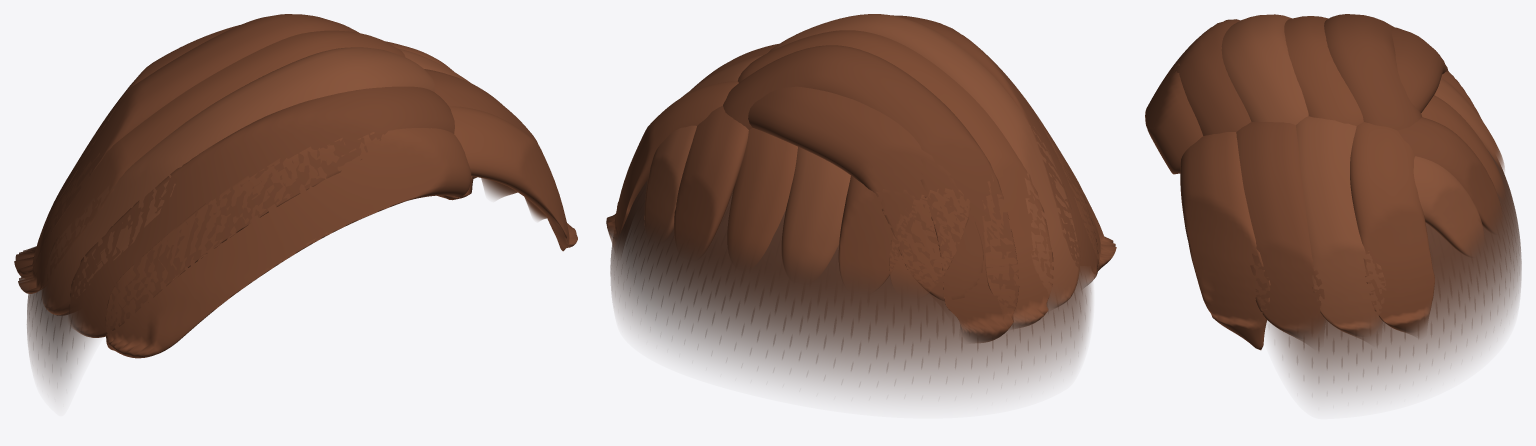
File: Masculine-taper-beanie258-hair.glb
3 renders of one model, left to right at view 1: azimuth 30°, elevation 25°; view 2: azimuth 150°, elevation 25°; view 3: azimuth 270°, elevation 25°, orthographic. The views are drawn at different scales.
Parts seen in each view (by area): view 1: 226 hair / Hair258 / sculpted side sweep 1, 226 hair / Hair258 / sculpted side sweep 0, 226 hair / Hair258 / sculpted side sweep 2, 226 hair / Hair258 / smooth side fade; view 2: 226 hair / Hair258 / sculpted side sweep 0, 226 hair / Hair258 / smooth side fade, 226 hair / Hair258 / sculpted side sweep 1, 226 hair / Hair258 / sculpted side sweep 2, 226 hair / Hair258 / directional fade marks; view 3: 226 hair / Hair258 / sculpted side sweep 1, 226 hair / Hair258 / sculpted side sweep 0, 226 hair / Hair258 / sculpted side sweep 2, 226 hair / Hair258 / smooth side fade, 226 hair / Hair258 / directional fade marks.
Boxes of the visible parts, <box> form: 226 hair / Hair258 / sculpted side sweep 1: <box>18,30,577,358</box>; 226 hair / Hair258 / sculpted side sweep 0: <box>14,14,546,337</box>; 226 hair / Hair258 / sculpted side sweep 2: <box>41,47,517,315</box>; 226 hair / Hair258 / smooth side fade: <box>27,287,94,393</box>; 226 hair / Hair258 / sculpted side sweep 0: <box>674,15,1098,342</box>; 226 hair / Hair258 / smooth side fade: <box>610,180,1091,398</box>; 226 hair / Hair258 / sculpted side sweep 1: <box>606,30,1116,328</box>; 226 hair / Hair258 / sculpted side sweep 2: <box>617,14,1080,307</box>; 226 hair / Hair258 / directional fade marks: <box>621,181,1086,371</box>; 226 hair / Hair258 / sculpted side sweep 1: <box>1145,16,1505,350</box>; 226 hair / Hair258 / sculpted side sweep 0: <box>1171,14,1502,340</box>; 226 hair / Hair258 / sculpted side sweep 2: <box>1221,14,1504,337</box>; 226 hair / Hair258 / smooth side fade: <box>1266,151,1521,400</box>; 226 hair / Hair258 / directional fade marks: <box>1289,151,1516,379</box>.
Size of the model in its own units: 0.9705 by 0.6474 by 0.7363.
